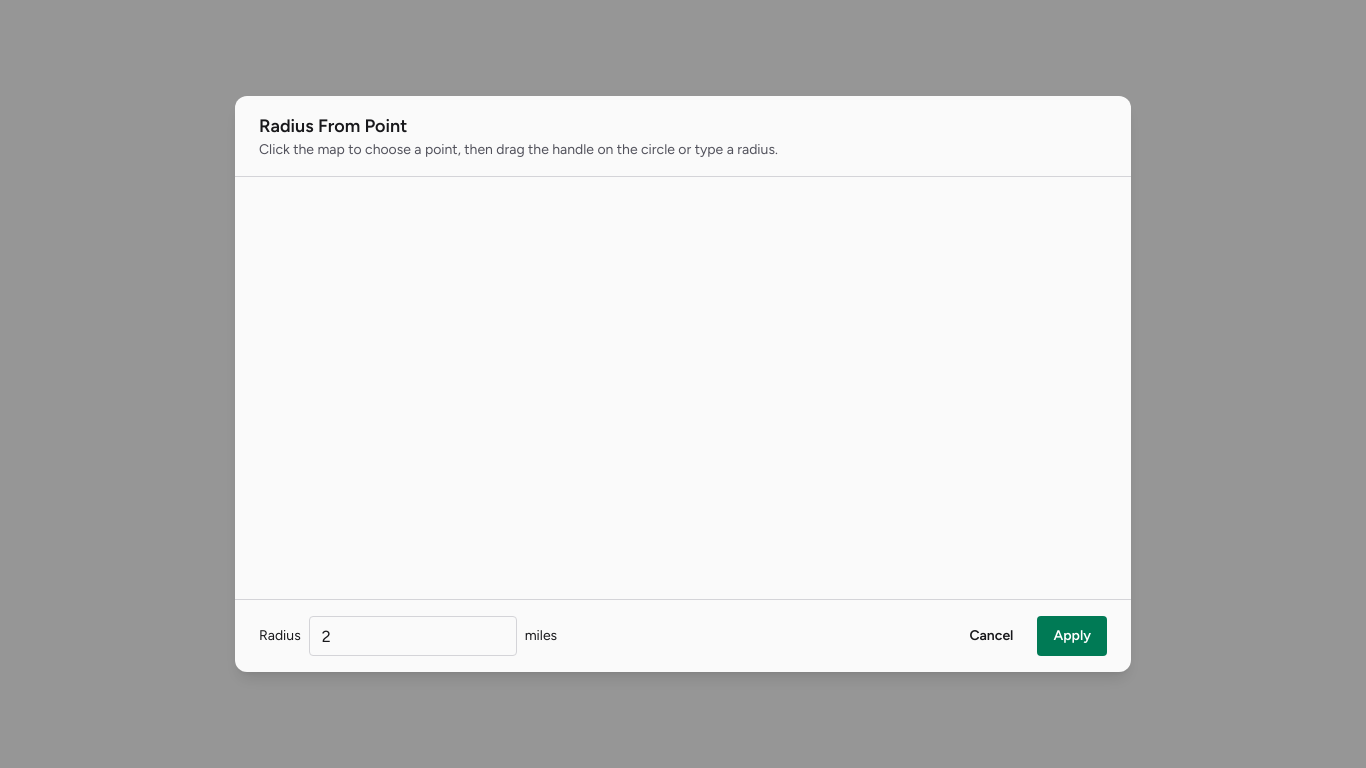
blocks applying a radius that is not positive
Replace the text in the number field named "Radius in miles" with "0" at (413, 636), box [309, 616, 517, 656]
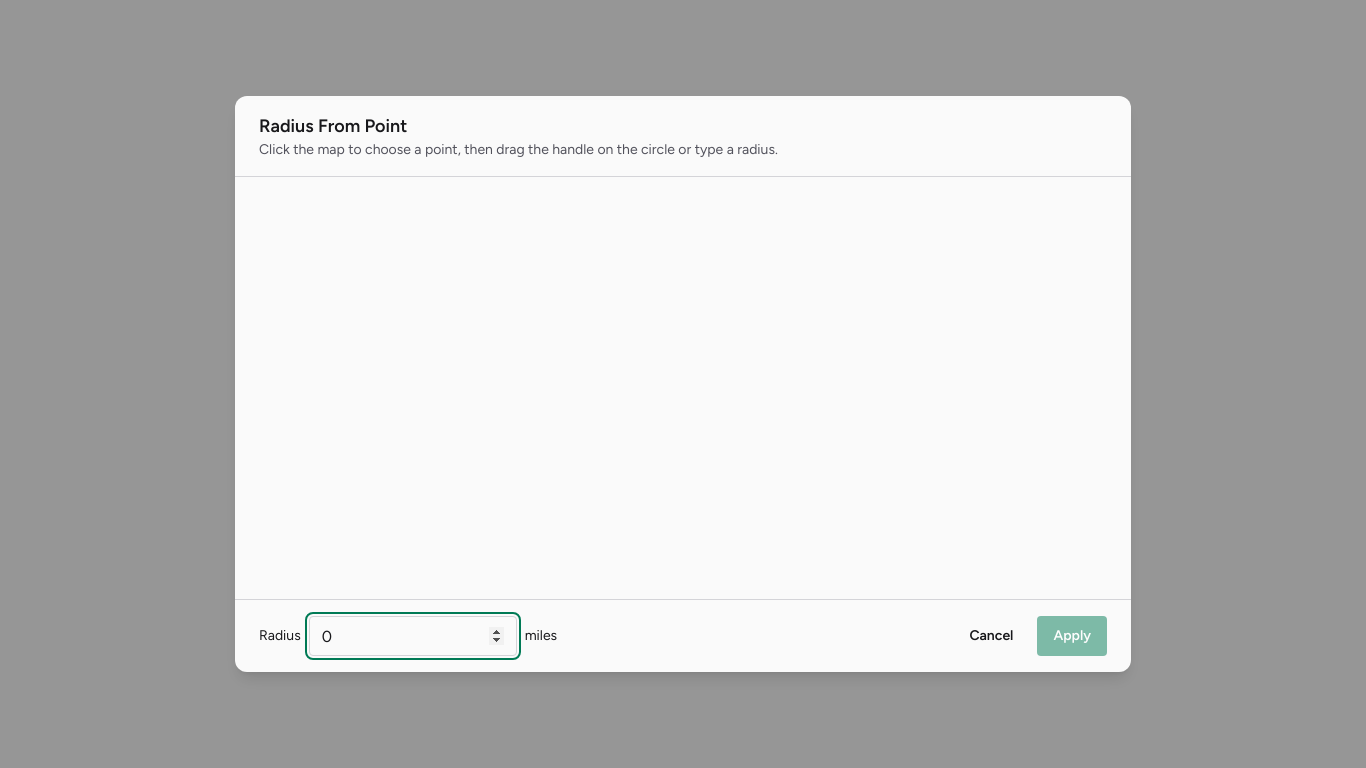
Check: the button "Apply" is disabled, box [1037, 616, 1107, 656]
